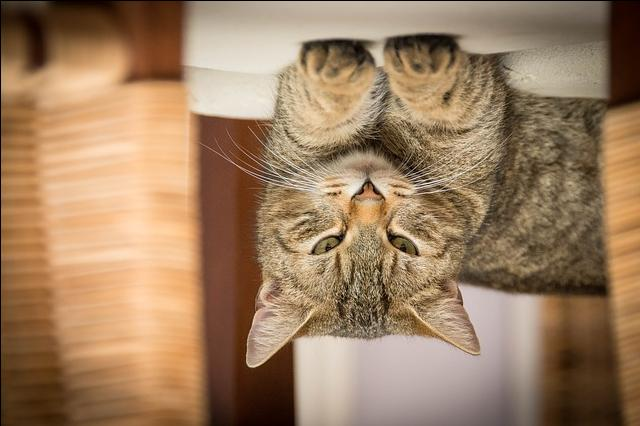cat: (197, 34, 610, 369)
